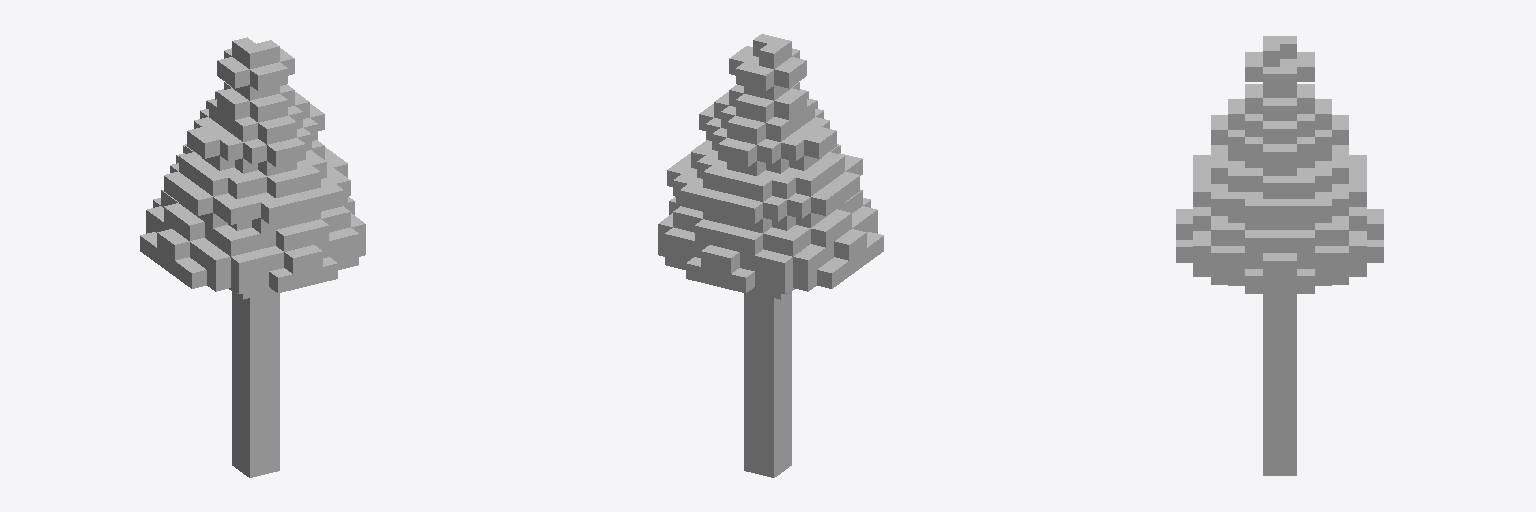
The model's file is Tree_2.obj.
3 renders of one model, left to right at view 1: azimuth 30°, elevation 25°; view 2: azimuth 150°, elevation 25°; view 3: azimuth 270°, elevation 25°, orthographic.
Visible parts, largest first — view 1: object 1; view 2: object 1; view 3: object 1.
Boxes of the visible parts, box(x1,y1,x2,y2) form: object 1: box(140, 37, 365, 477); object 1: box(658, 34, 883, 477); object 1: box(1176, 36, 1383, 475).
Size of the model in its own units: 1.2 by 2.7 by 1.2.